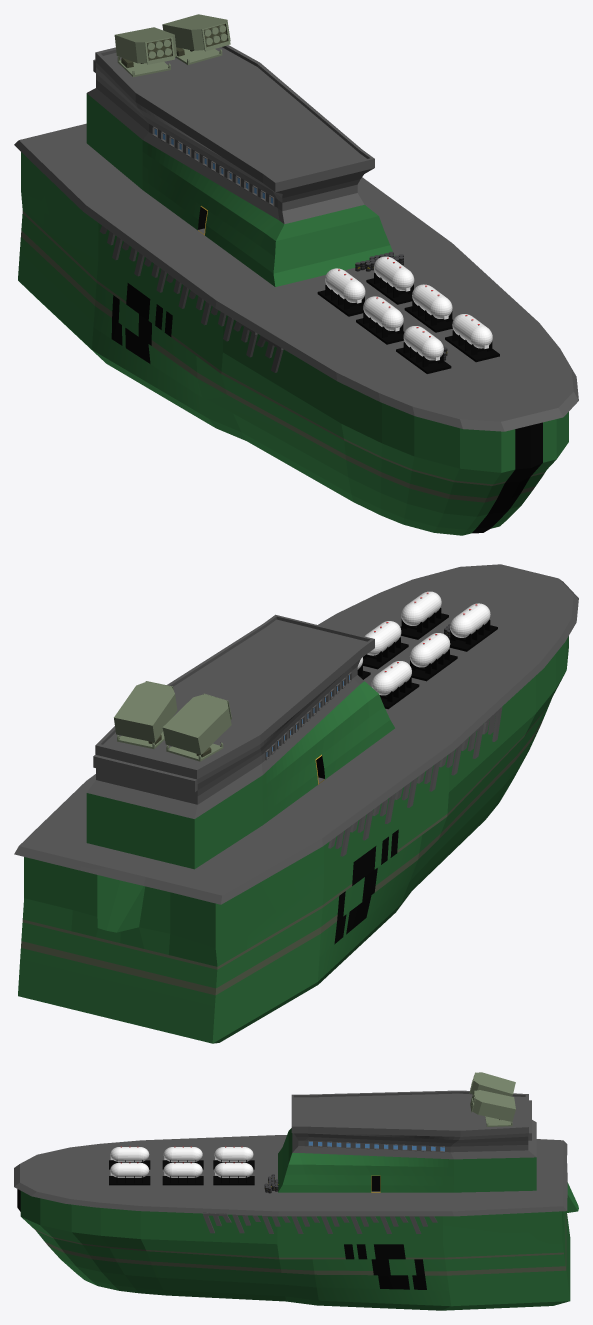
Rendered from Barco5.fbx.
3 renders of one model, top to bottom at view 1: azimuth 30°, elevation 25°; view 2: azimuth 150°, elevation 25°; view 3: azimuth 270°, elevation 25°, orthographic. The views are drawn at different scales.
Parts seen in each view (by area): view 1: Cube.002; view 2: Cube.002; view 3: Cube.002.
Part boxes in pixels (left/top/right/bottom): Cube.002: left=14, top=14, right=578, bottom=535; Cube.002: left=14, top=564, right=578, bottom=1043; Cube.002: left=14, top=1072, right=578, bottom=1310.
Bounding box in the file's own units: 9.99 × 11.41 × 30.65.
